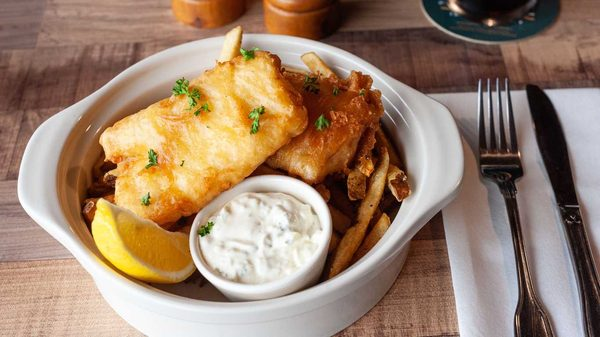burger: (475, 75, 556, 334)
pizza: (262, 1, 344, 40), (170, 0, 249, 29)
sandwich: (525, 84, 600, 332)
sushi: (18, 28, 468, 331), (189, 173, 332, 302)
taco: (91, 197, 196, 284)
